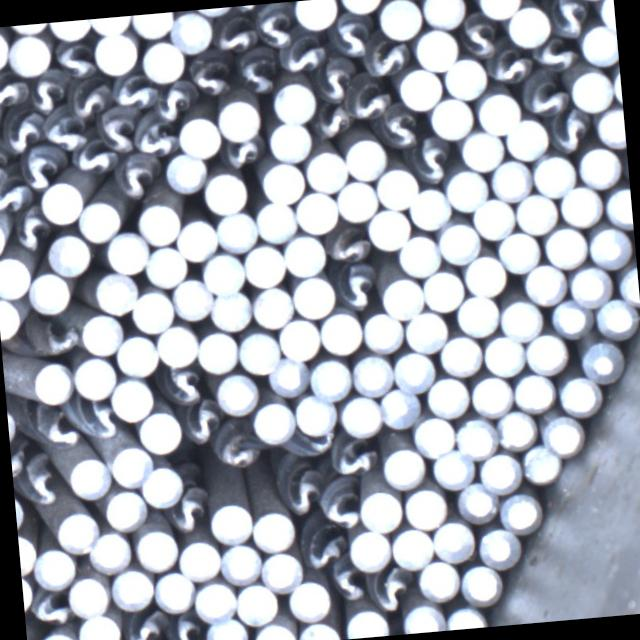tool: (426, 93, 476, 140), (566, 64, 614, 112), (529, 149, 577, 197), (395, 64, 443, 112), (284, 575, 332, 623), (574, 142, 622, 189), (316, 308, 363, 356), (292, 186, 338, 234), (128, 286, 176, 332), (134, 408, 182, 454), (380, 444, 428, 490), (364, 204, 410, 252), (302, 146, 348, 194), (556, 182, 602, 228), (402, 307, 448, 353), (214, 369, 260, 415), (540, 223, 586, 269), (523, 330, 569, 376), (430, 517, 476, 563), (168, 8, 214, 54), (378, 274, 424, 320), (291, 392, 337, 438), (496, 228, 542, 274), (100, 486, 146, 532), (584, 223, 630, 269), (476, 448, 522, 494), (520, 260, 566, 306), (86, 529, 132, 575), (92, 29, 138, 75), (77, 309, 123, 355), (232, 580, 278, 626), (412, 24, 458, 70), (109, 375, 155, 421), (460, 252, 506, 298), (38, 179, 84, 225), (202, 169, 248, 215), (503, 115, 549, 161), (200, 248, 246, 294), (208, 498, 254, 544), (306, 353, 351, 400), (407, 413, 455, 457), (388, 524, 433, 570), (337, 392, 382, 438), (108, 565, 154, 610), (402, 484, 448, 529), (70, 354, 116, 399), (345, 526, 390, 572), (396, 232, 441, 278), (150, 570, 195, 616), (192, 575, 237, 621), (361, 310, 406, 356), (357, 487, 403, 532), (113, 331, 159, 376), (208, 288, 253, 334), (242, 240, 287, 286), (75, 198, 122, 242), (452, 414, 497, 459), (349, 352, 394, 397), (333, 177, 378, 222), (454, 293, 499, 338), (138, 462, 183, 507), (276, 316, 320, 362), (194, 328, 238, 374), (416, 556, 460, 602), (390, 346, 434, 392), (420, 264, 464, 310), (250, 282, 294, 328), (435, 220, 479, 266), (442, 56, 488, 100), (154, 322, 198, 368), (144, 242, 188, 288), (250, 507, 296, 551), (426, 373, 470, 418), (236, 329, 280, 374), (439, 332, 483, 377), (250, 399, 294, 444), (140, 39, 184, 84), (132, 527, 176, 572), (443, 166, 488, 210), (174, 217, 218, 262), (475, 88, 520, 132), (258, 548, 303, 592), (136, 199, 180, 244), (266, 118, 311, 162), (468, 373, 512, 417), (177, 537, 221, 581), (282, 232, 326, 276), (252, 199, 296, 243), (66, 572, 110, 616), (430, 447, 475, 490), (107, 443, 149, 489), (481, 332, 524, 376), (514, 190, 558, 233), (92, 270, 135, 314), (7, 33, 51, 76), (470, 196, 514, 239), (175, 114, 218, 158), (215, 208, 258, 252), (104, 231, 148, 274), (33, 544, 76, 588), (48, 233, 92, 276), (578, 338, 621, 382), (55, 509, 99, 552), (217, 96, 260, 140), (455, 481, 498, 524), (488, 157, 531, 200), (30, 361, 73, 404), (28, 270, 71, 313), (492, 408, 536, 450), (548, 296, 592, 338), (218, 540, 260, 584), (498, 297, 542, 339), (264, 356, 308, 398), (506, 4, 550, 46), (594, 296, 638, 338), (460, 128, 504, 170), (556, 374, 600, 416), (290, 275, 334, 317), (260, 160, 304, 202), (344, 136, 386, 180), (66, 456, 110, 498), (408, 188, 452, 230), (459, 562, 502, 604), (378, 385, 420, 428), (568, 262, 610, 305), (164, 150, 206, 193), (498, 490, 540, 533), (171, 276, 212, 320), (476, 525, 520, 566), (512, 370, 554, 412), (376, 166, 418, 208), (540, 413, 582, 454), (520, 443, 562, 484), (578, 22, 618, 65), (272, 81, 314, 121), (376, 0, 420, 38), (400, 598, 446, 634), (343, 605, 388, 639), (592, 104, 626, 148), (0, 252, 32, 298), (75, 609, 122, 640), (292, 0, 338, 31), (604, 184, 634, 230), (421, 0, 465, 27), (295, 615, 341, 640), (203, 614, 247, 640), (444, 604, 486, 630), (132, 12, 174, 37), (616, 262, 640, 305), (0, 296, 22, 339), (251, 619, 296, 640), (49, 19, 90, 40), (89, 15, 132, 35), (476, 0, 521, 19), (17, 530, 37, 572), (339, 0, 382, 13), (34, 629, 80, 640), (0, 26, 8, 71)
tool_b: (282, 462, 328, 520), (357, 35, 414, 80), (29, 402, 80, 452), (25, 315, 82, 359), (318, 474, 362, 530), (184, 49, 231, 101), (366, 565, 414, 615), (19, 456, 65, 506), (133, 116, 183, 162), (301, 524, 348, 572), (19, 144, 66, 192), (233, 44, 280, 92), (115, 151, 158, 202), (216, 419, 258, 471), (545, 110, 592, 156), (275, 32, 324, 76), (70, 135, 120, 178), (96, 108, 140, 156), (44, 107, 88, 155), (457, 12, 501, 60), (374, 104, 416, 154), (520, 78, 571, 119), (0, 110, 45, 156), (408, 138, 452, 185), (528, 36, 582, 74), (330, 434, 376, 478), (210, 14, 256, 58), (484, 49, 534, 88), (326, 15, 371, 58), (337, 264, 378, 311), (254, 1, 295, 48), (6, 208, 49, 252), (326, 224, 371, 266), (180, 402, 220, 449), (51, 36, 94, 79), (316, 58, 354, 106), (172, 489, 212, 534), (78, 399, 120, 441), (111, 71, 154, 112), (327, 559, 366, 604), (344, 81, 390, 118), (32, 588, 74, 628), (70, 78, 110, 120), (548, 0, 592, 38), (26, 72, 64, 114), (155, 80, 191, 124), (224, 134, 268, 169), (167, 366, 205, 406), (122, 609, 169, 640), (292, 428, 334, 459), (315, 100, 350, 136), (0, 174, 31, 212), (0, 70, 30, 109), (166, 610, 204, 640), (0, 143, 11, 184)
